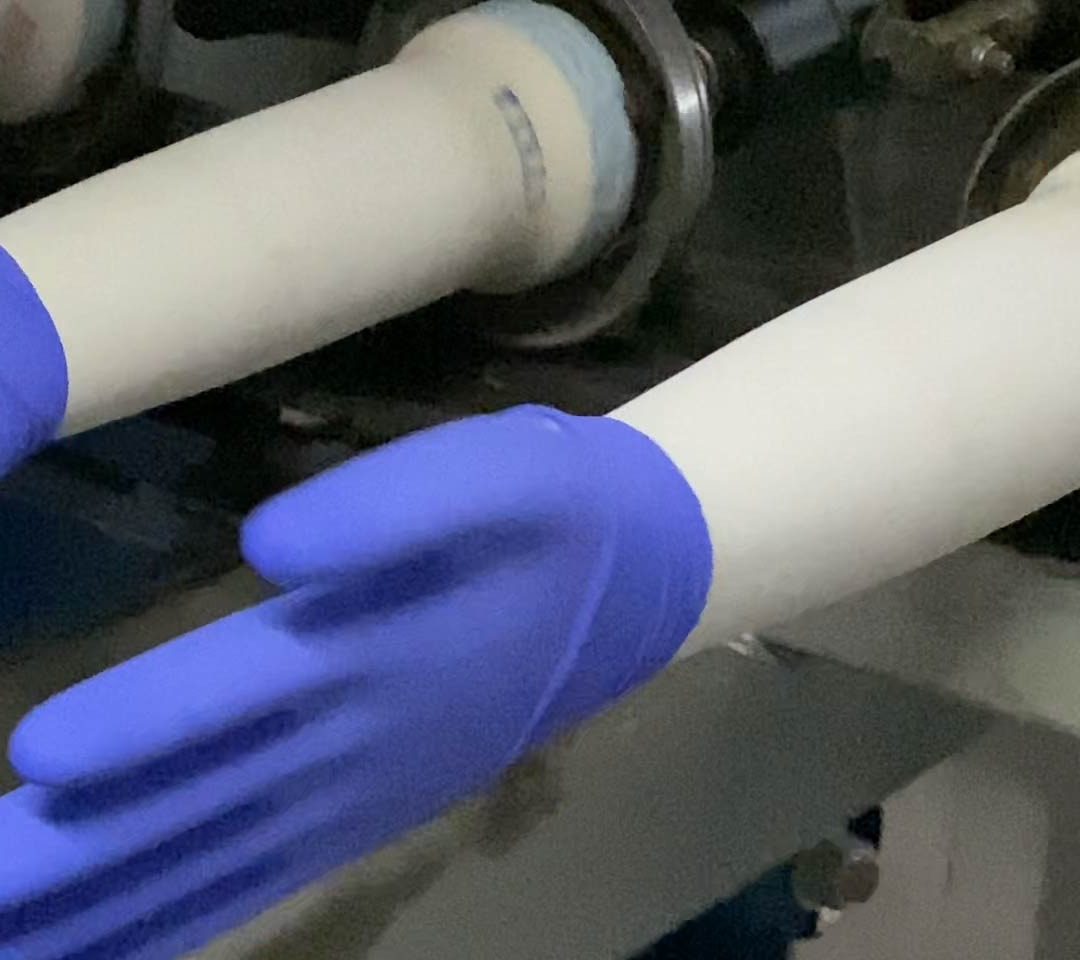glove: (1, 402, 714, 958)
